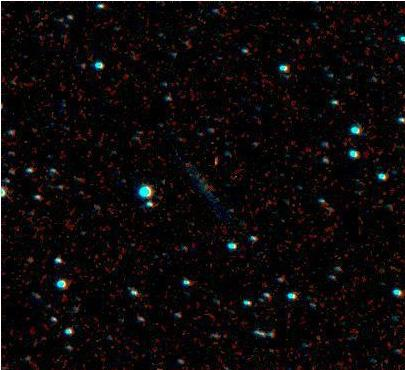star: (198, 152, 228, 182)
